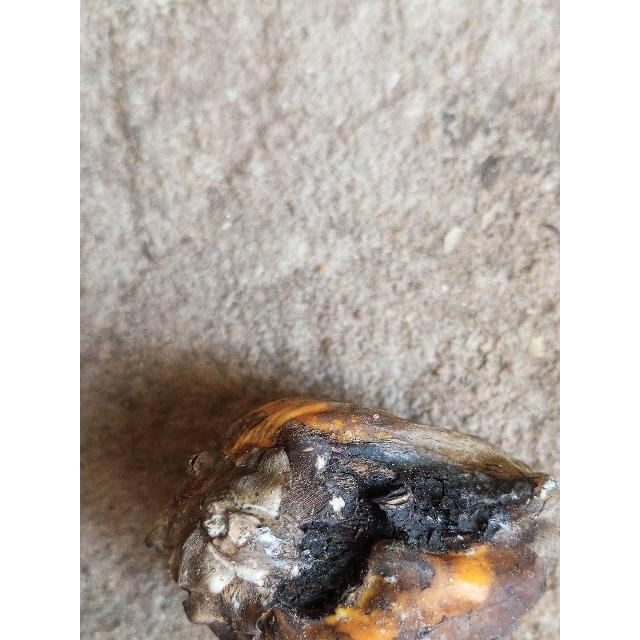damaged: (147, 398, 558, 640)
